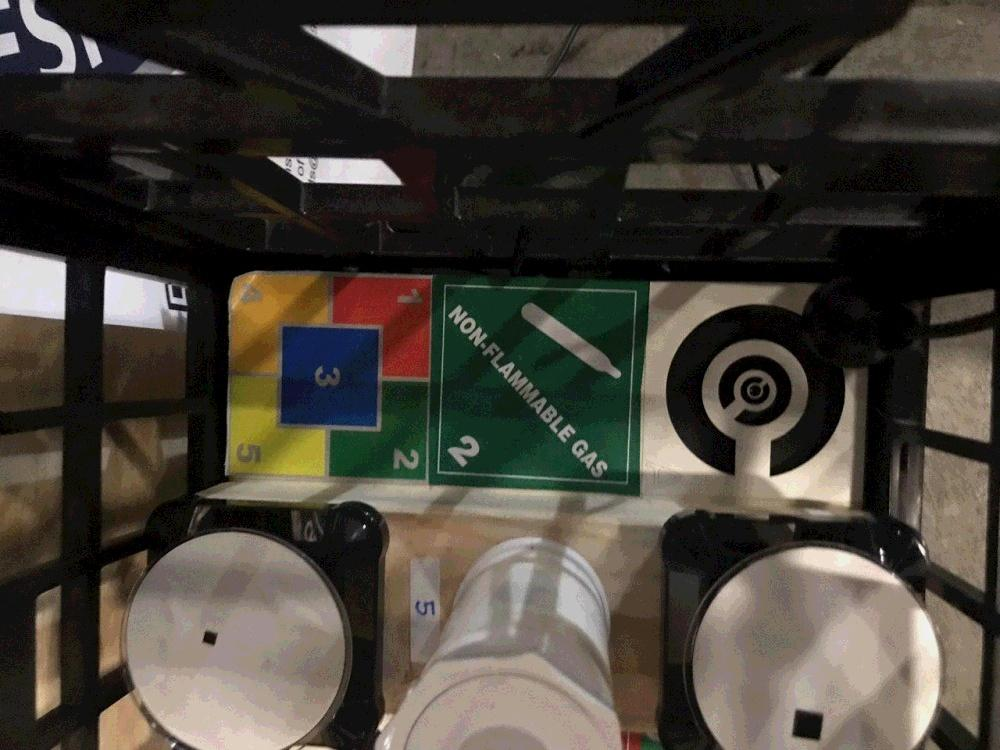non-flammable-gas: (430, 276, 651, 496)
